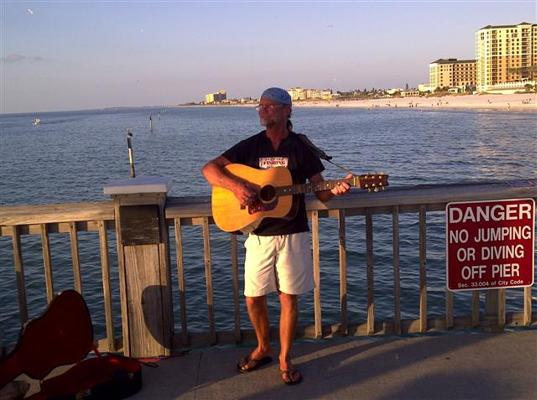person: (201, 87, 354, 383)
